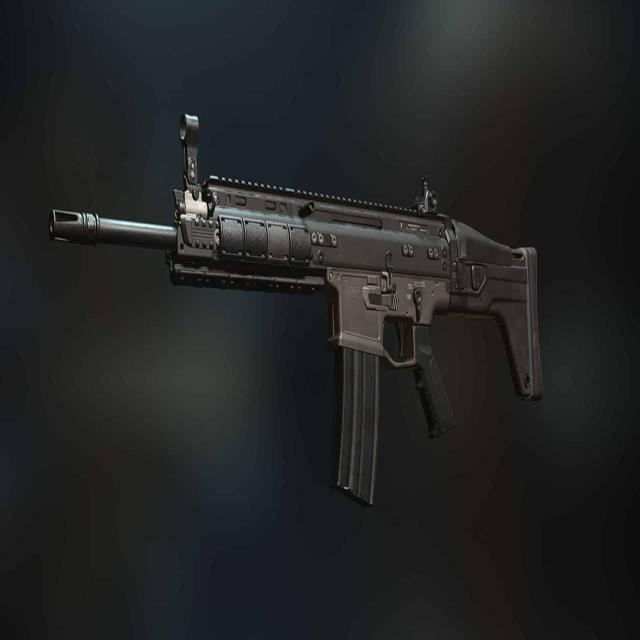Rifle: (49, 114, 544, 507)
